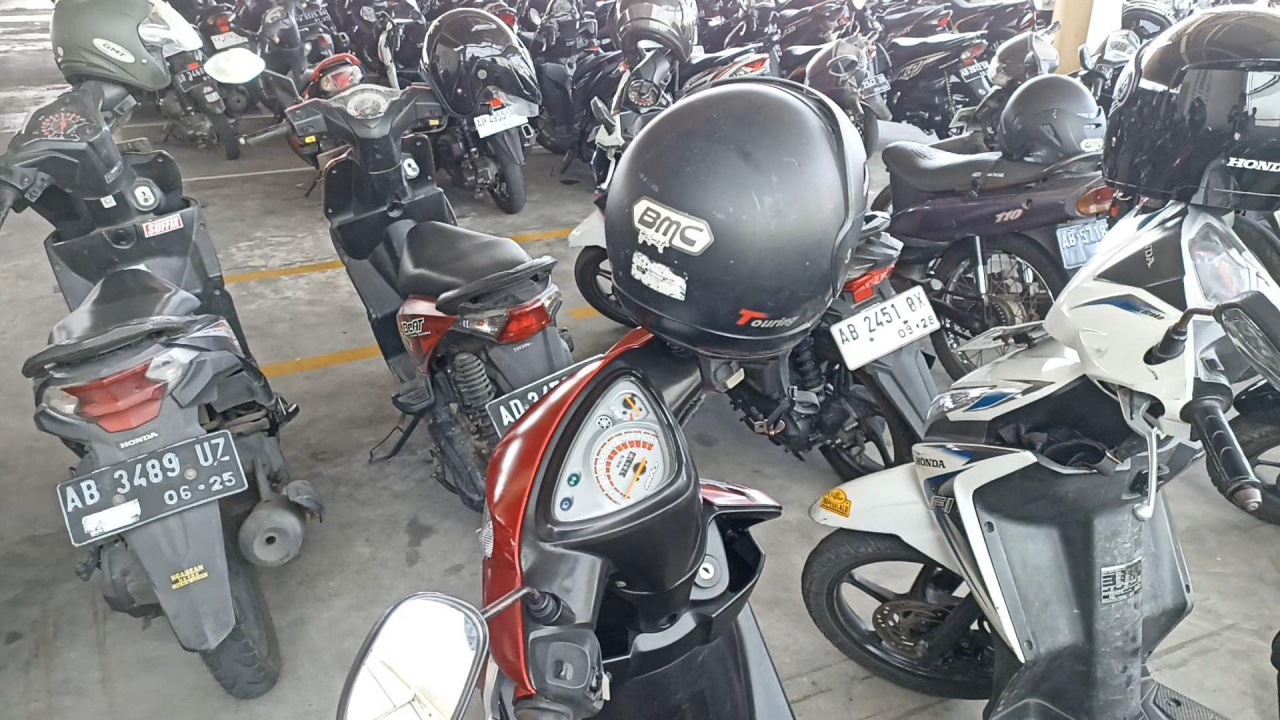plate: (56, 428, 249, 549), (830, 285, 941, 372)
